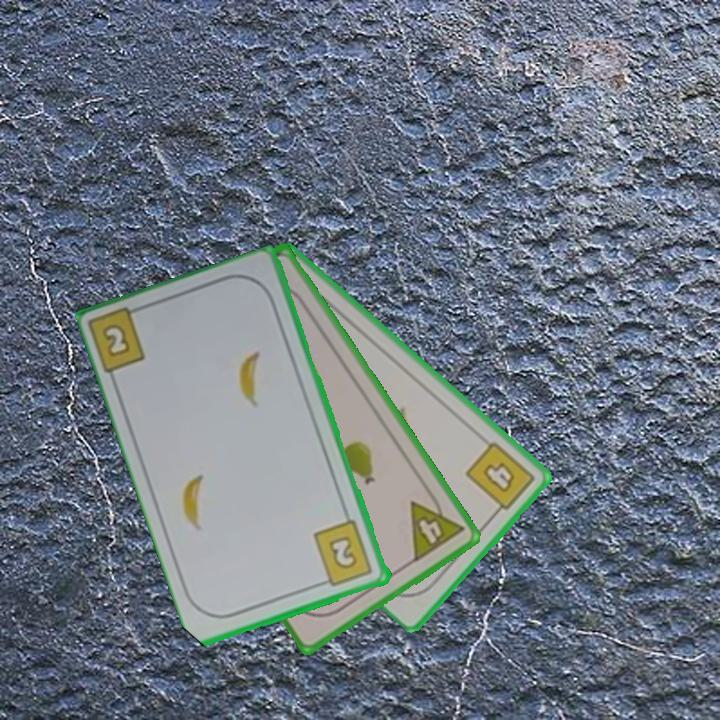2b: (310, 517, 376, 590), (99, 320, 134, 361)
4b: (462, 437, 538, 520)
4p: (406, 486, 468, 565)
